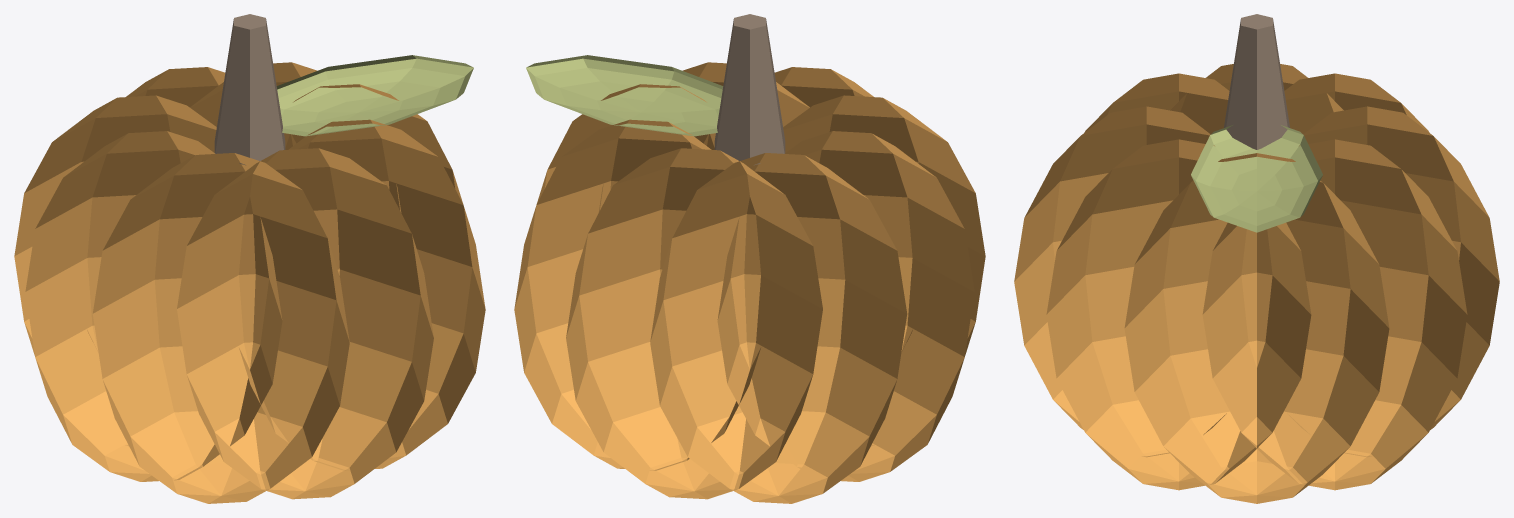
File: harvest-hearth-ribbed-harvest-pumpkin__69.glb
3 views of the same model, side by side, from view 1: azimuth 30°, elevation 25°; view 2: azimuth 150°, elevation 25°; view 3: azimuth 270°, elevation 25° (orthographic).
Parts seen in each view (by area): view 1: harvest-hearth-pumpkin; view 2: harvest-hearth-pumpkin; view 3: harvest-hearth-pumpkin.
Boxes of the visible parts, x1=… form: harvest-hearth-pumpkin: x1=14, y1=14, x2=485, y2=503; harvest-hearth-pumpkin: x1=514, y1=14, x2=985, y2=503; harvest-hearth-pumpkin: x1=1014, y1=14, x2=1499, y2=503.
Bounding box in the file's own units: 0.68 × 0.64 × 0.66.
